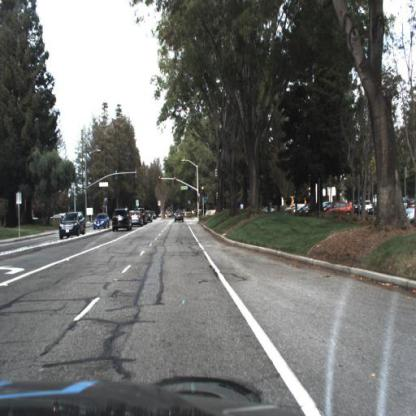car: (58, 209, 89, 243), (59, 212, 87, 240), (318, 199, 356, 218), (112, 206, 134, 234), (112, 208, 133, 233), (91, 211, 113, 233), (174, 208, 188, 223), (131, 208, 143, 225), (131, 213, 143, 227)
trafficLight-Red: (199, 185, 207, 200), (174, 177, 178, 191), (158, 175, 162, 187)
